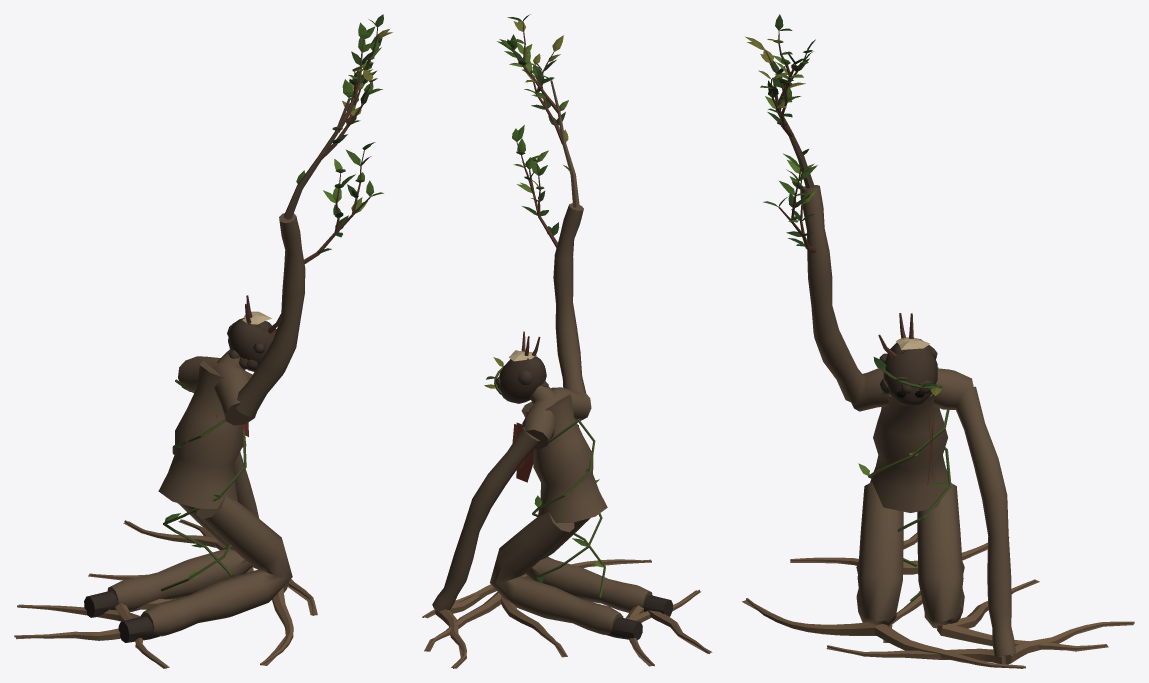
File: plant_wanderer.glb
The picture shows the model from 3 angles, left to right: view 1: azimuth 30°, elevation 25°; view 2: azimuth 150°, elevation 25°; view 3: azimuth 270°, elevation 25°; orthographic projection. The views are drawn at different scales.
Visible parts, largest first — view 1: teil0, teil7, teil1, teil3, teil9, teil11, teil5, teil14, teil2, teil13, teil8; view 2: teil0, teil7, teil1, teil3, teil5, teil9, teil11, teil14, teil8, teil2, teil13, teil12 (+1 smaller); view 3: teil0, teil7, teil1, teil3, teil14, teil5, teil11, teil8, teil13, teil12.
Part boxes in pixels (bbox=[...]): teil0: bbox=[107, 213, 305, 636]; teil7: bbox=[14, 519, 314, 668]; teil1: bbox=[227, 318, 276, 371]; teil3: bbox=[245, 27, 377, 333]; teil9: bbox=[84, 591, 160, 642]; teil11: bbox=[164, 22, 383, 521]; teil5: bbox=[161, 379, 246, 591]; teil14: bbox=[177, 14, 383, 547]; teil2: bbox=[284, 98, 350, 219]; teil13: bbox=[189, 47, 381, 578]; teil8: bbox=[16, 519, 317, 668]; teil0: bbox=[432, 203, 652, 634]; teil7: bbox=[422, 559, 710, 668]; teil1: bbox=[495, 356, 548, 403]; teil3: bbox=[512, 21, 566, 356]; teil5: bbox=[494, 365, 605, 598]; teil9: bbox=[606, 595, 672, 640]; teil11: bbox=[499, 39, 587, 546]; teil14: bbox=[486, 14, 588, 582]; teil8: bbox=[424, 559, 712, 668]; teil2: bbox=[550, 80, 579, 207]; teil13: bbox=[509, 42, 603, 567]; teil12: bbox=[484, 18, 568, 388]; teil0: bbox=[801, 185, 1015, 656]; teil7: bbox=[746, 532, 1134, 668]; teil1: bbox=[879, 338, 937, 406]; teil3: bbox=[765, 31, 913, 358]; teil14: bbox=[767, 14, 937, 387]; teil5: bbox=[868, 367, 951, 602]; teil11: bbox=[760, 39, 949, 486]; teil8: bbox=[742, 537, 1133, 668]; teil13: bbox=[765, 55, 869, 475]; teil12: bbox=[745, 36, 941, 455].
Size of the model in its own units: 1.44 by 2.73 by 1.49.
